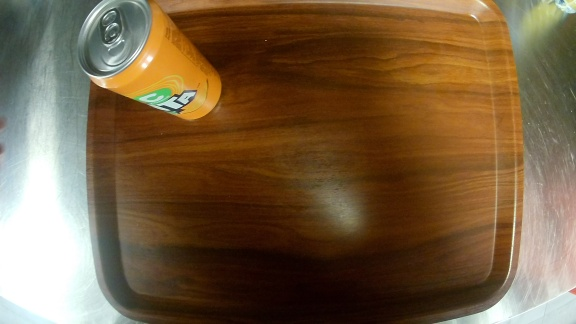kutufanta: (73, 1, 229, 122)
